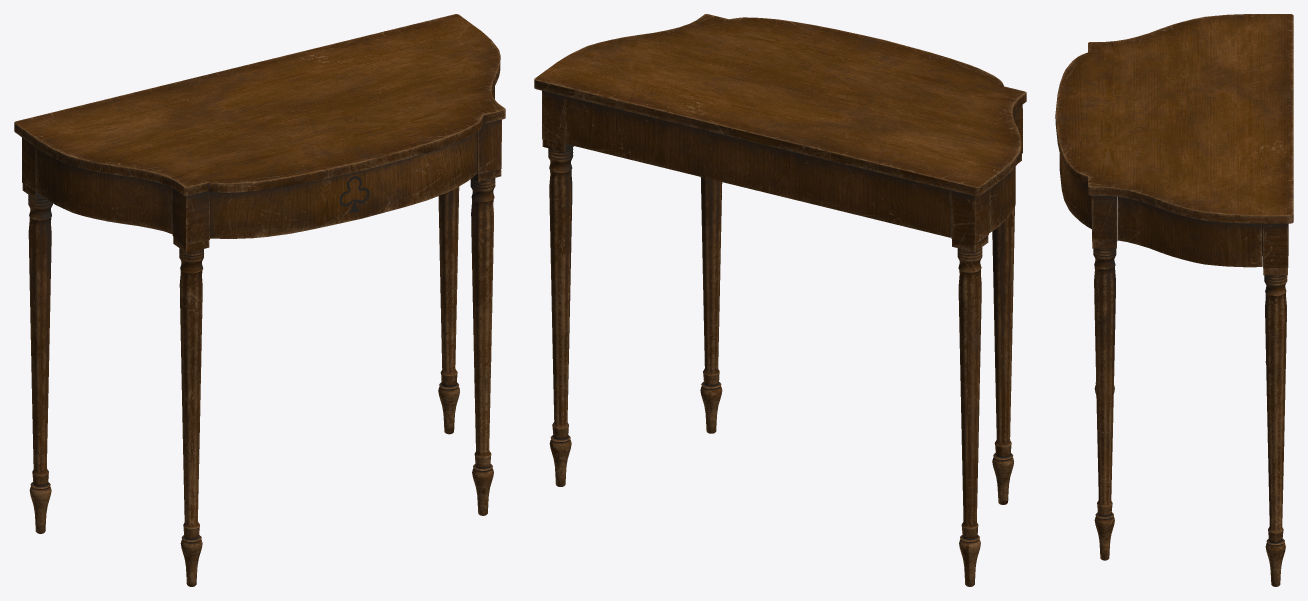
The model's file is dining_table.glb.
3 renders of one model, left to right at view 1: azimuth 30°, elevation 25°; view 2: azimuth 150°, elevation 25°; view 3: azimuth 270°, elevation 25°, orthographic. The views are drawn at different scales.
Parts seen in each view (by area): view 1: Object_3__0; view 2: Object_3__0; view 3: Object_3__0.
Part boxes in pixels (x1,y1,x2,y2): Object_3__0: (14,14,505,586); Object_3__0: (534,14,1026,586); Object_3__0: (1055,14,1293,586).
Bounding box in the file's own units: 0.9448 × 0.8283 × 0.4722.
Materials: 1 (1 with a texture image).
